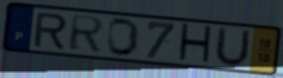7: (144, 20, 177, 60)
H: (176, 21, 214, 67)
O: (106, 17, 142, 58)
R: (67, 14, 107, 53), (32, 12, 69, 50)
U: (212, 25, 252, 68)
